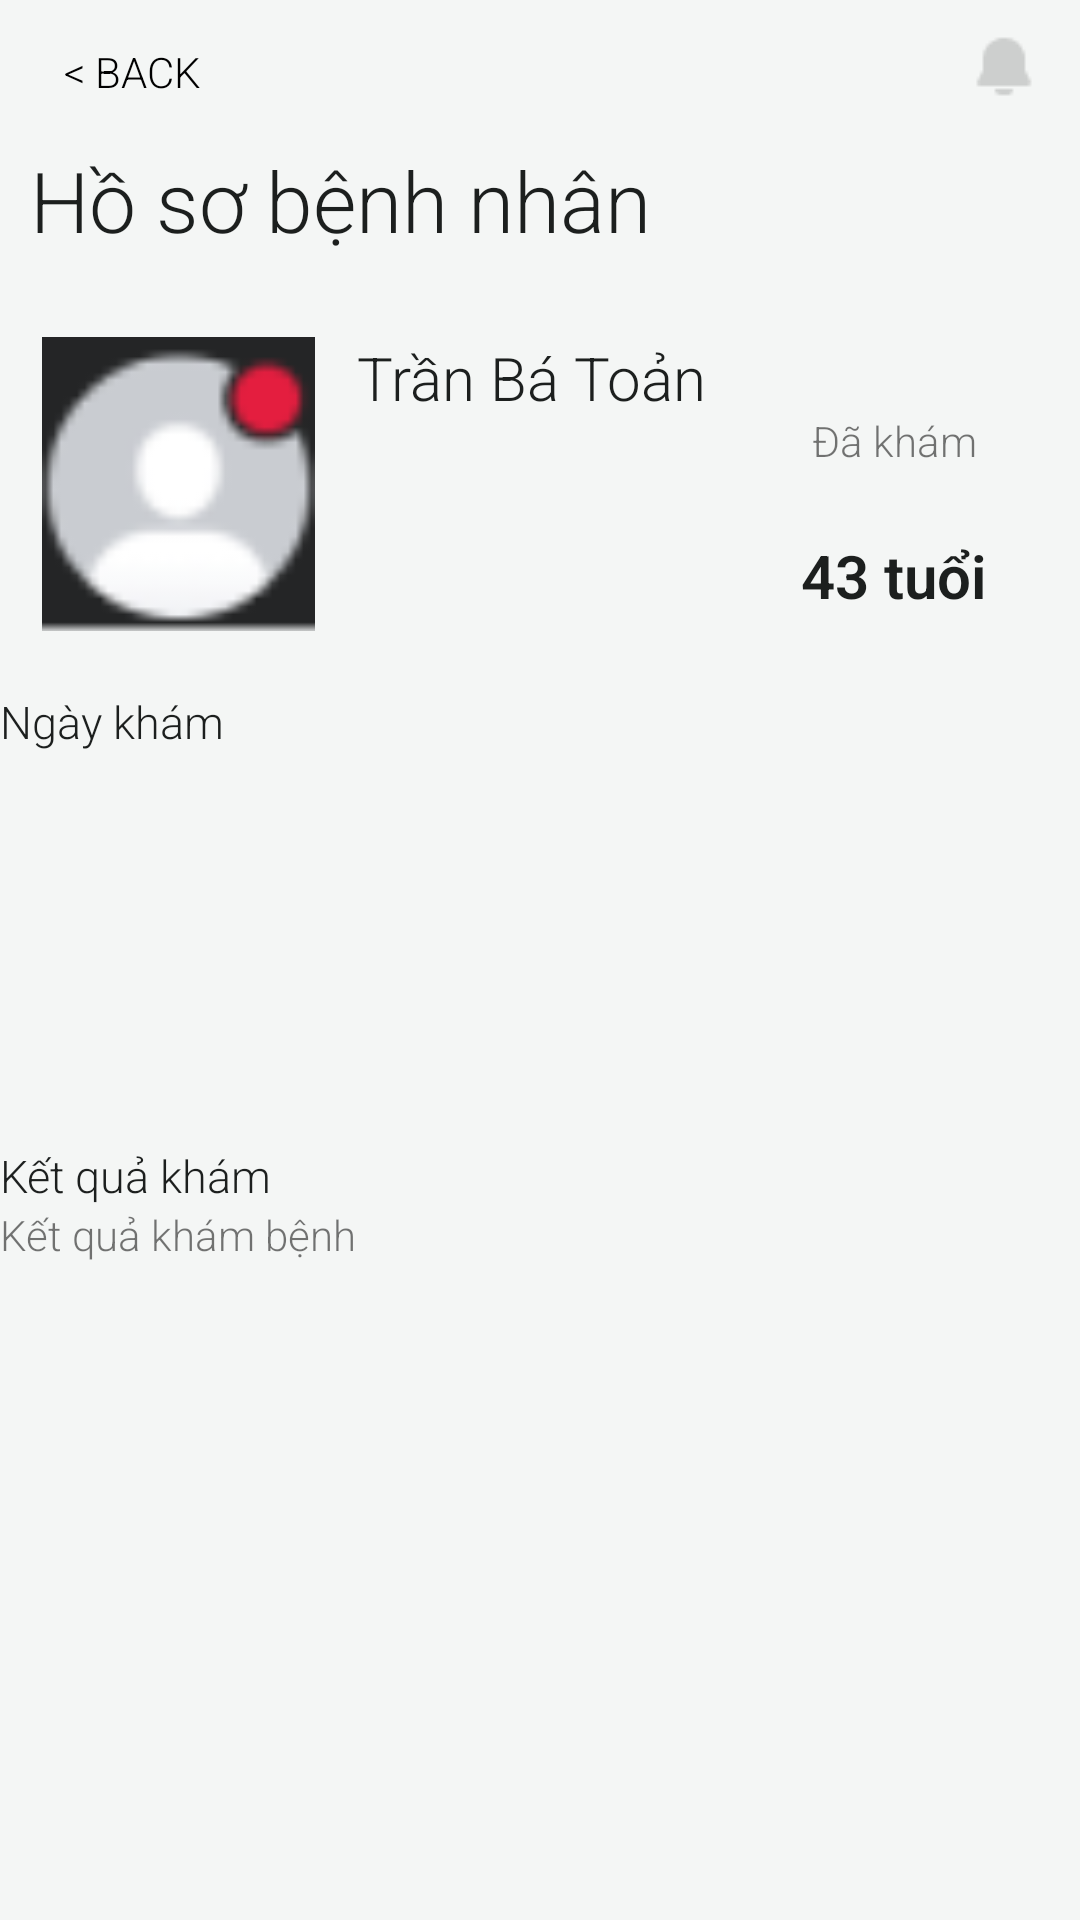

Where to tap for icons on this 1080px x 1920px app screen, as (x,y):
noti: (1004,66)
profile: (178,484)
